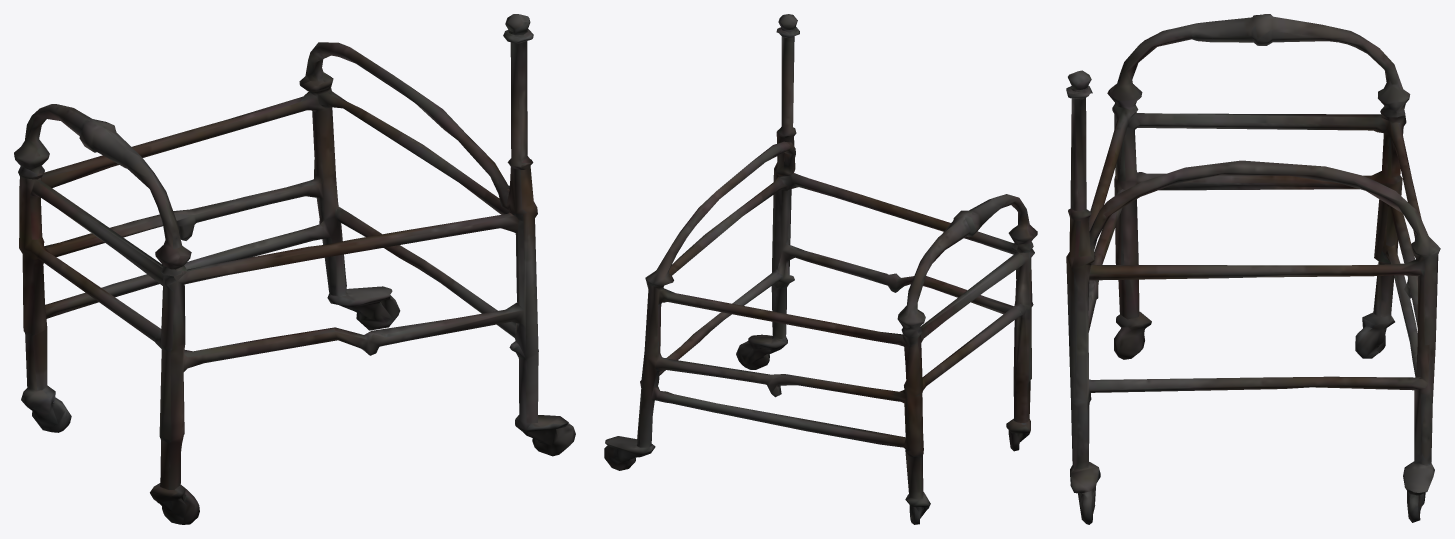
File: ornate-iron-asylum-bed-v002.glb
3 renders of one model, left to right at view 1: azimuth 30°, elevation 25°; view 2: azimuth 150°, elevation 25°; view 3: azimuth 270°, elevation 25°, orthographic. The views are drawn at different scales.
Visible parts, largest first — view 1: ornate-iron-asylum-bed; view 2: ornate-iron-asylum-bed; view 3: ornate-iron-asylum-bed.
Part boxes in pixels (x1=…): ornate-iron-asylum-bed: x1=14, y1=14, x2=575, y2=524; ornate-iron-asylum-bed: x1=604, y1=14, x2=1037, y2=524; ornate-iron-asylum-bed: x1=1066, y1=14, x2=1440, y2=524.
Size of the model in its own units: 0.8447 by 0.9198 by 0.7222.
Materials: 1 (1 with a texture image).
